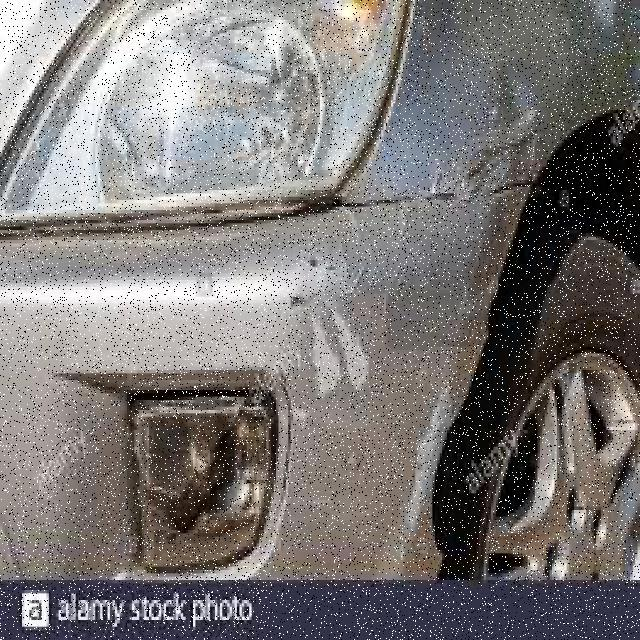fender-dent: (354, 0, 638, 374)
front-bumper-dent: (0, 207, 544, 590)
